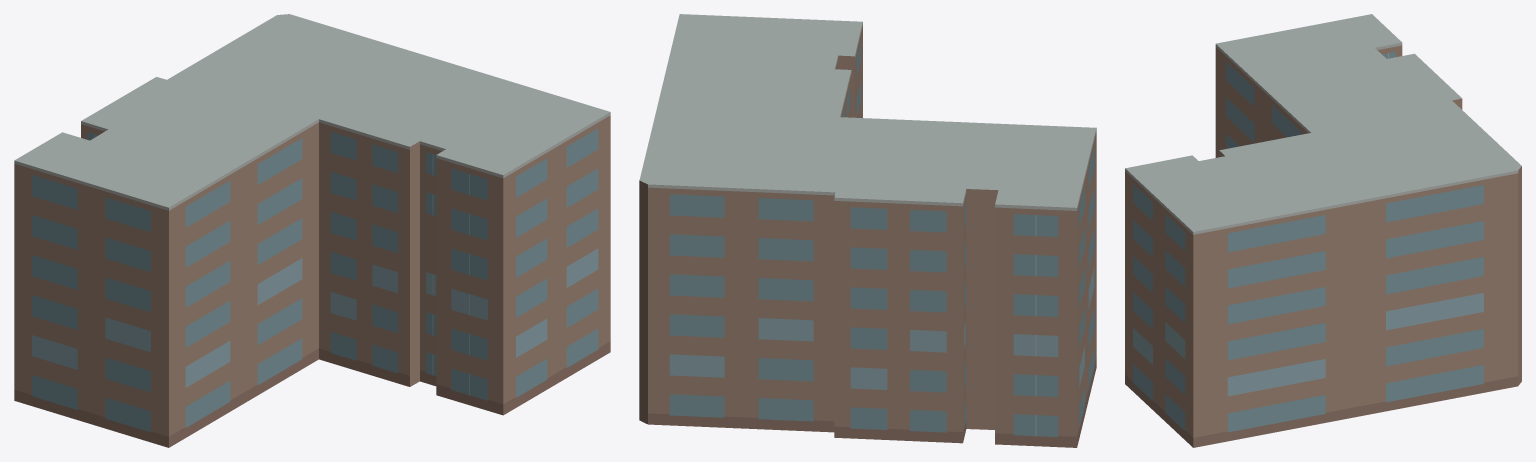
Rendered from survey-upis-32600943.glb.
3 renders of one model, left to right at view 1: azimuth 30°, elevation 25°; view 2: azimuth 150°, elevation 25°; view 3: azimuth 270°, elevation 25°, orthographic. The views are drawn at different scales.
Parts seen in each view (by area): view 1: survey-upis-32600943.tmp; view 2: survey-upis-32600943.tmp; view 3: survey-upis-32600943.tmp.
Part boxes in pixels (<box>): survey-upis-32600943.tmp: <box>14,14,610,447</box>; survey-upis-32600943.tmp: <box>639,14,1096,447</box>; survey-upis-32600943.tmp: <box>1125,14,1521,447</box>.
Bounding box in the file's own units: 40.51 × 18.7 × 31.15.
